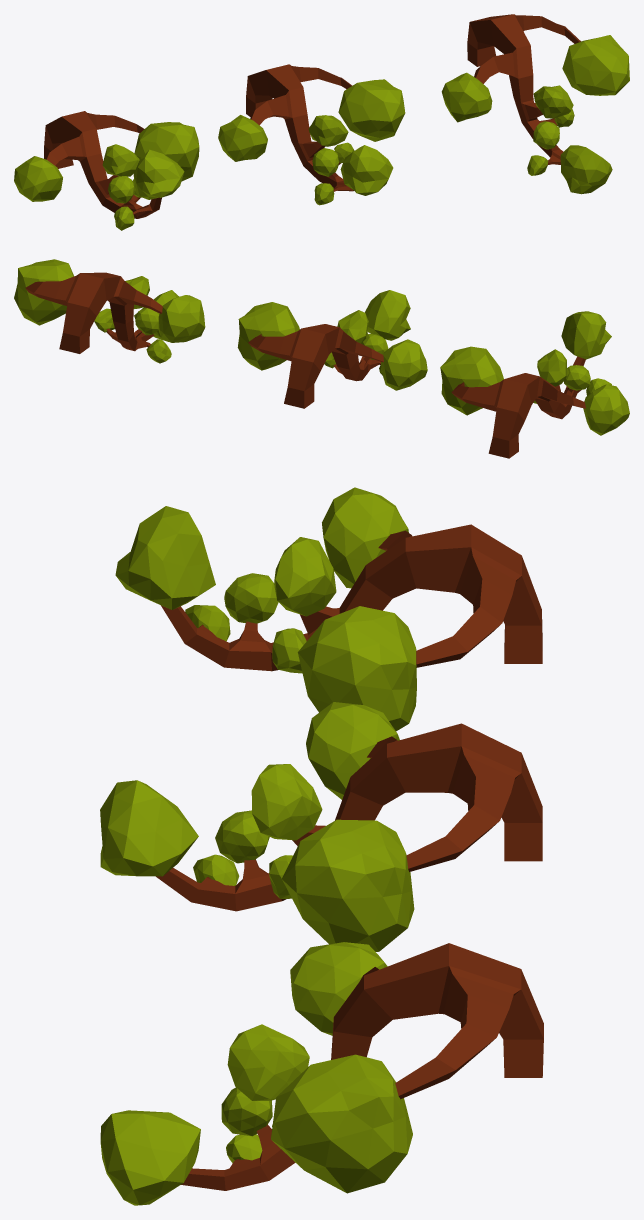
The model's file is 2016-01-30_GGJO_Ruben-Hansen_Hanging-Trees.FBX.
The picture shows the model from 3 angles, top to bottom: view 1: azimuth 30°, elevation 25°; view 2: azimuth 150°, elevation 25°; view 3: azimuth 270°, elevation 25°; orthographic projection. The views are drawn at different scales.
Visible parts, largest first — view 1: Box003, Box001, Box002; view 2: Box002, Box001, Box003; view 3: Box003, Box001, Box002.
Part boxes in pixels (left/top/right/bottom): Box003: left=441, top=14, right=629, bottom=194; Box001: left=218, top=64, right=405, bottom=205; Box002: left=14, top=111, right=199, bottom=230; Box002: left=440, top=311, right=629, bottom=458; Box001: left=237, top=290, right=427, bottom=408; Box003: left=14, top=259, right=205, bottom=363; Box003: left=100, top=942, right=543, bottom=1205; Box001: left=100, top=702, right=542, bottom=951; Box002: left=115, top=487, right=542, bottom=731.
Bounding box in the file's own units: 286 × 62.52 × 91.21.
